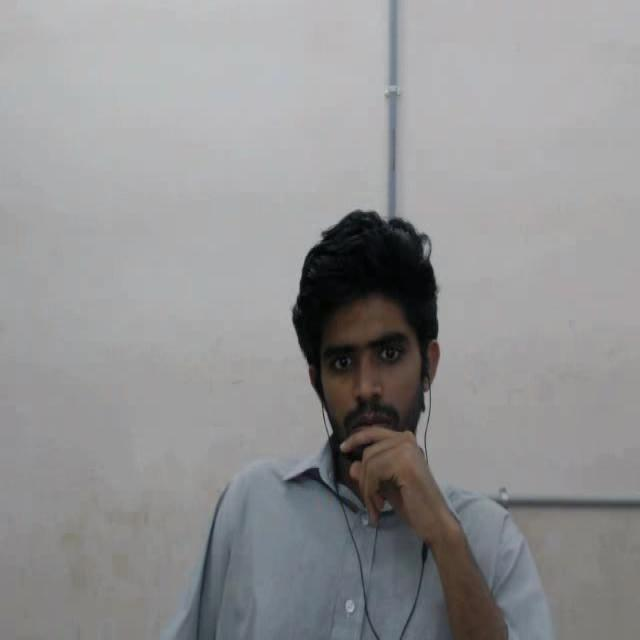Bored: (264, 189, 474, 505)
